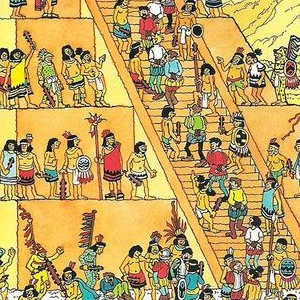Odlaw: (90, 94, 210, 206)
Wizard Whitebeard: (222, 78, 300, 200)
